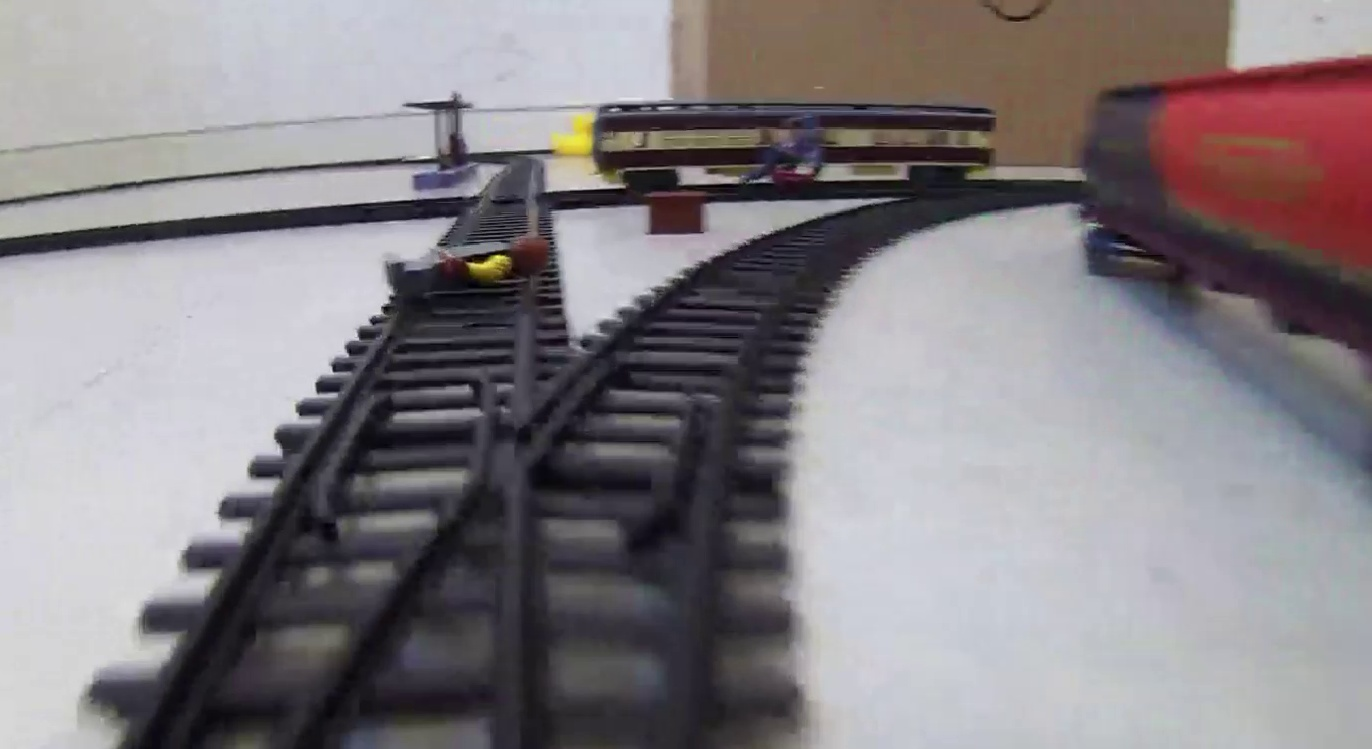box: (649, 192, 707, 236)
people: (384, 233, 554, 291)
